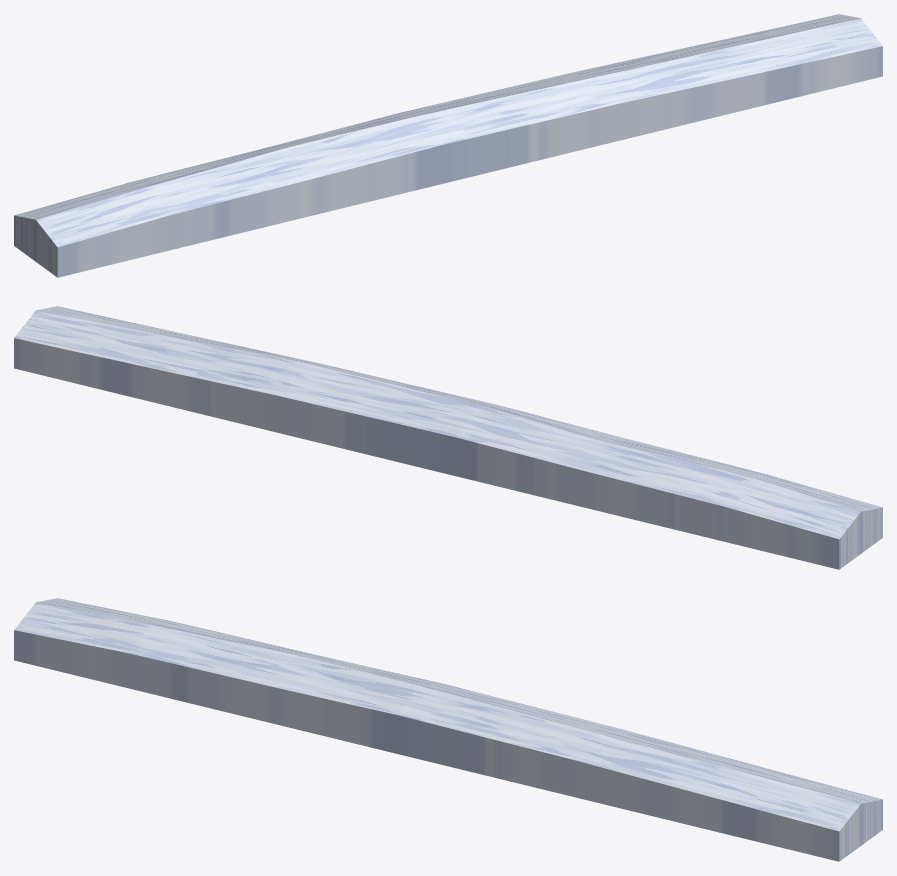
File: snow_rail_top.glb
The picture shows the model from 3 angles, top to bottom: view 1: azimuth 30°, elevation 25°; view 2: azimuth 150°, elevation 25°; view 3: azimuth 330°, elevation 25°; orthographic projection.
Parts seen in each view (by area): view 1: winter_snow_rail_top; view 2: winter_snow_rail_top; view 3: winter_snow_rail_top.
Boxes of the visible parts, x1,y1,x2,y2 form: winter_snow_rail_top: [14, 14, 882, 277]; winter_snow_rail_top: [14, 306, 882, 569]; winter_snow_rail_top: [14, 598, 882, 861].
Size of the model in its own units: 1.2 by 0.075 by 0.11.
1 material, 1 textured.
